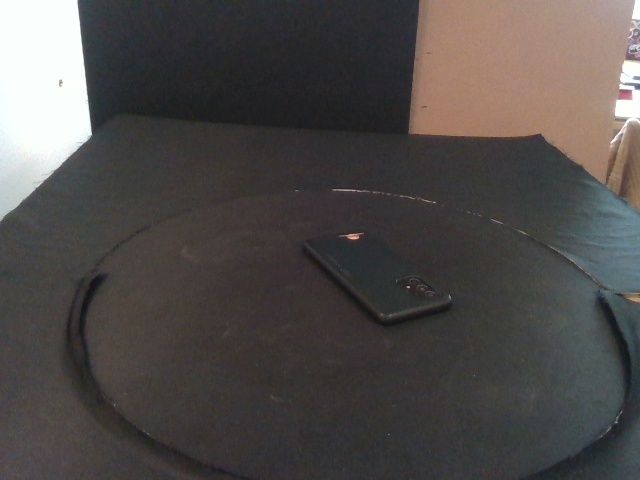phone: (302, 227, 452, 326)
